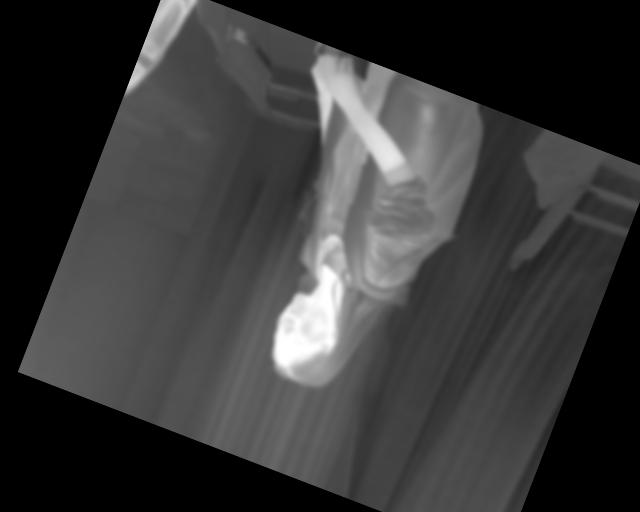face: (258, 286, 362, 397)
